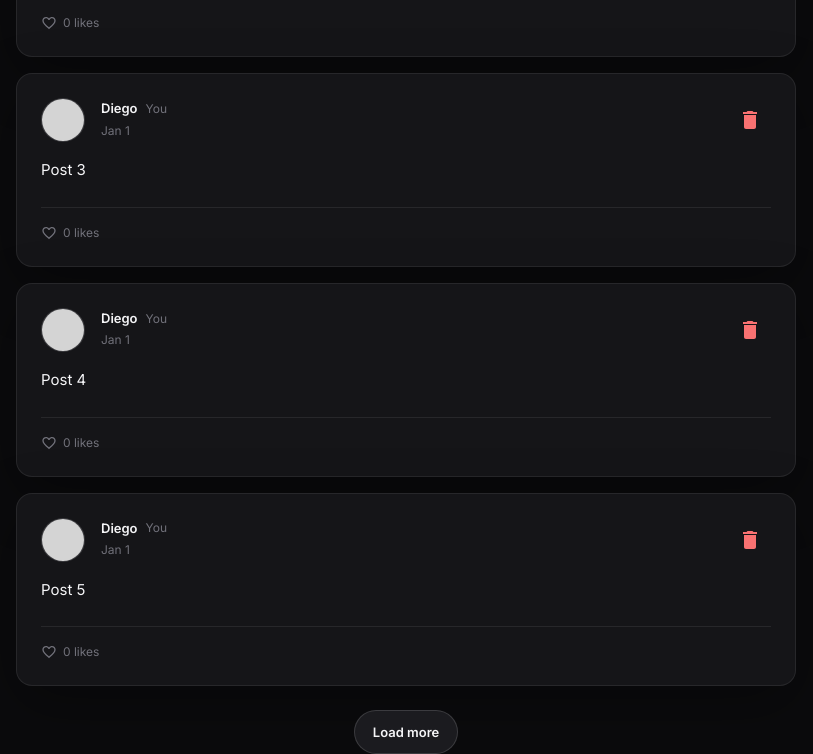
Test case: Feed › loads the first page and appends more posts
(page scrolled)
Click the button "Load more" at (406,732), box [354,710,458,753]
(page scrolled)
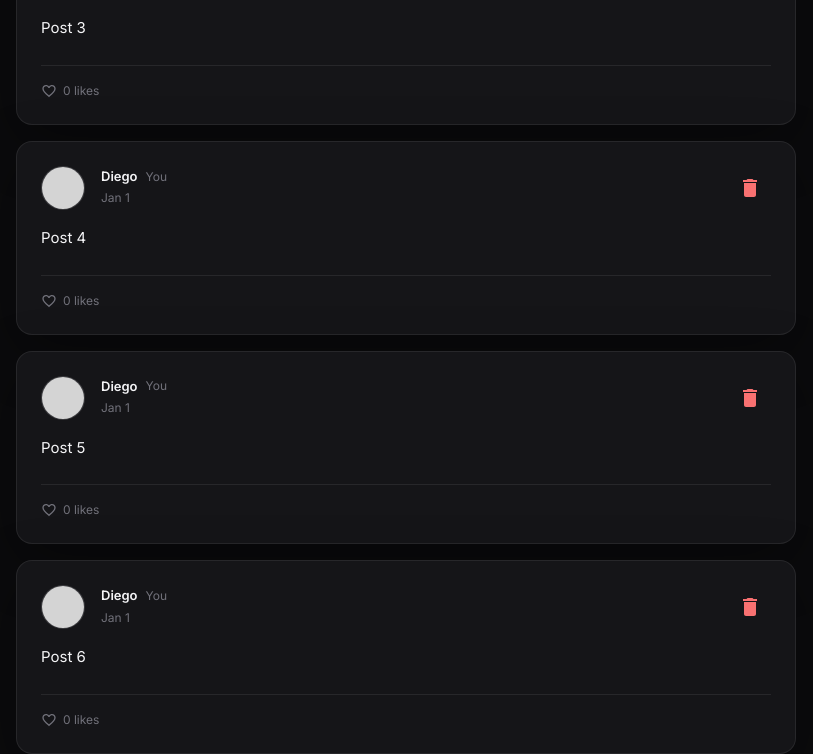
Expected: the text "Post 6" is shown, [41,647,86,666]
Expected: the button "Load more" is gone
